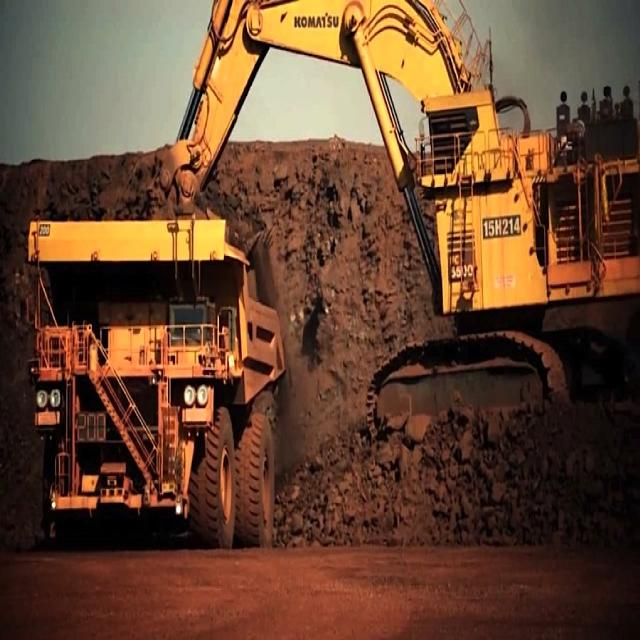dump_truck: (20, 202, 302, 561)
excavator: (146, 5, 639, 438)
